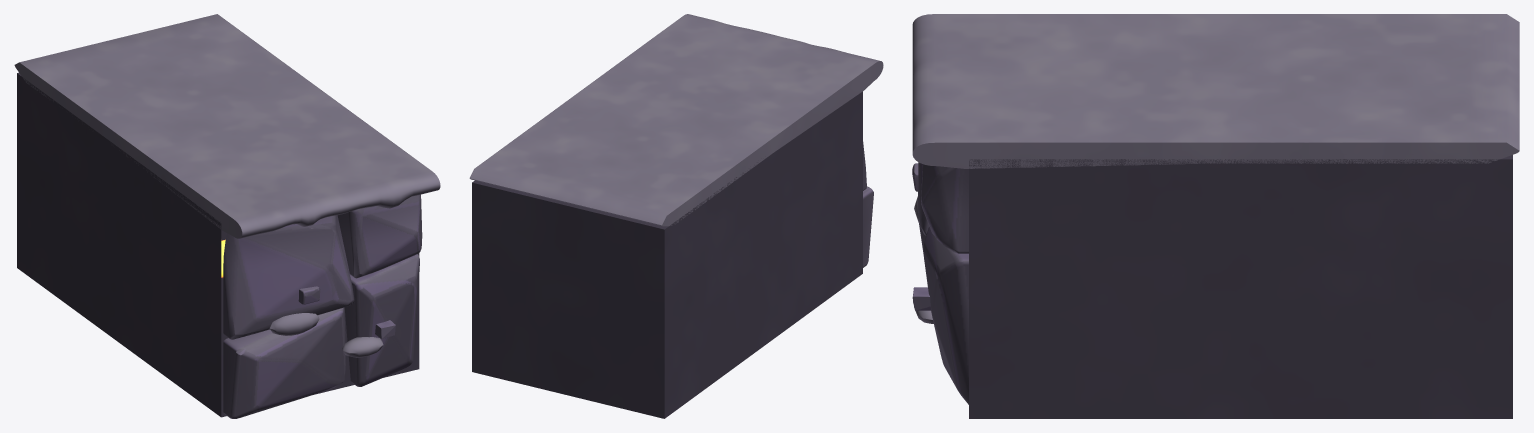
Rendered from EF_T01_CooledBasaltCore_V2.fbx.
3 views of the same model, side by side, from view 1: azimuth 30°, elevation 25°; view 2: azimuth 150°, elevation 25°; view 3: azimuth 270°, elevation 25° (orthographic). The views are drawn at different scales.
Visible parts, largest first — view 1: Rock, Crust; view 2: Rock, Crust; view 3: Rock, Crust.
Boxes of the visible parts, box(x1,y1,x2,y2) form: Rock: box(17, 72, 422, 418); Crust: box(14, 14, 440, 357); Rock: box(472, 91, 873, 418); Crust: box(469, 14, 883, 226); Rock: box(912, 155, 1512, 418); Crust: box(912, 14, 1519, 323).
Bounding box in the file's own units: 2 × 2 × 3.99.
